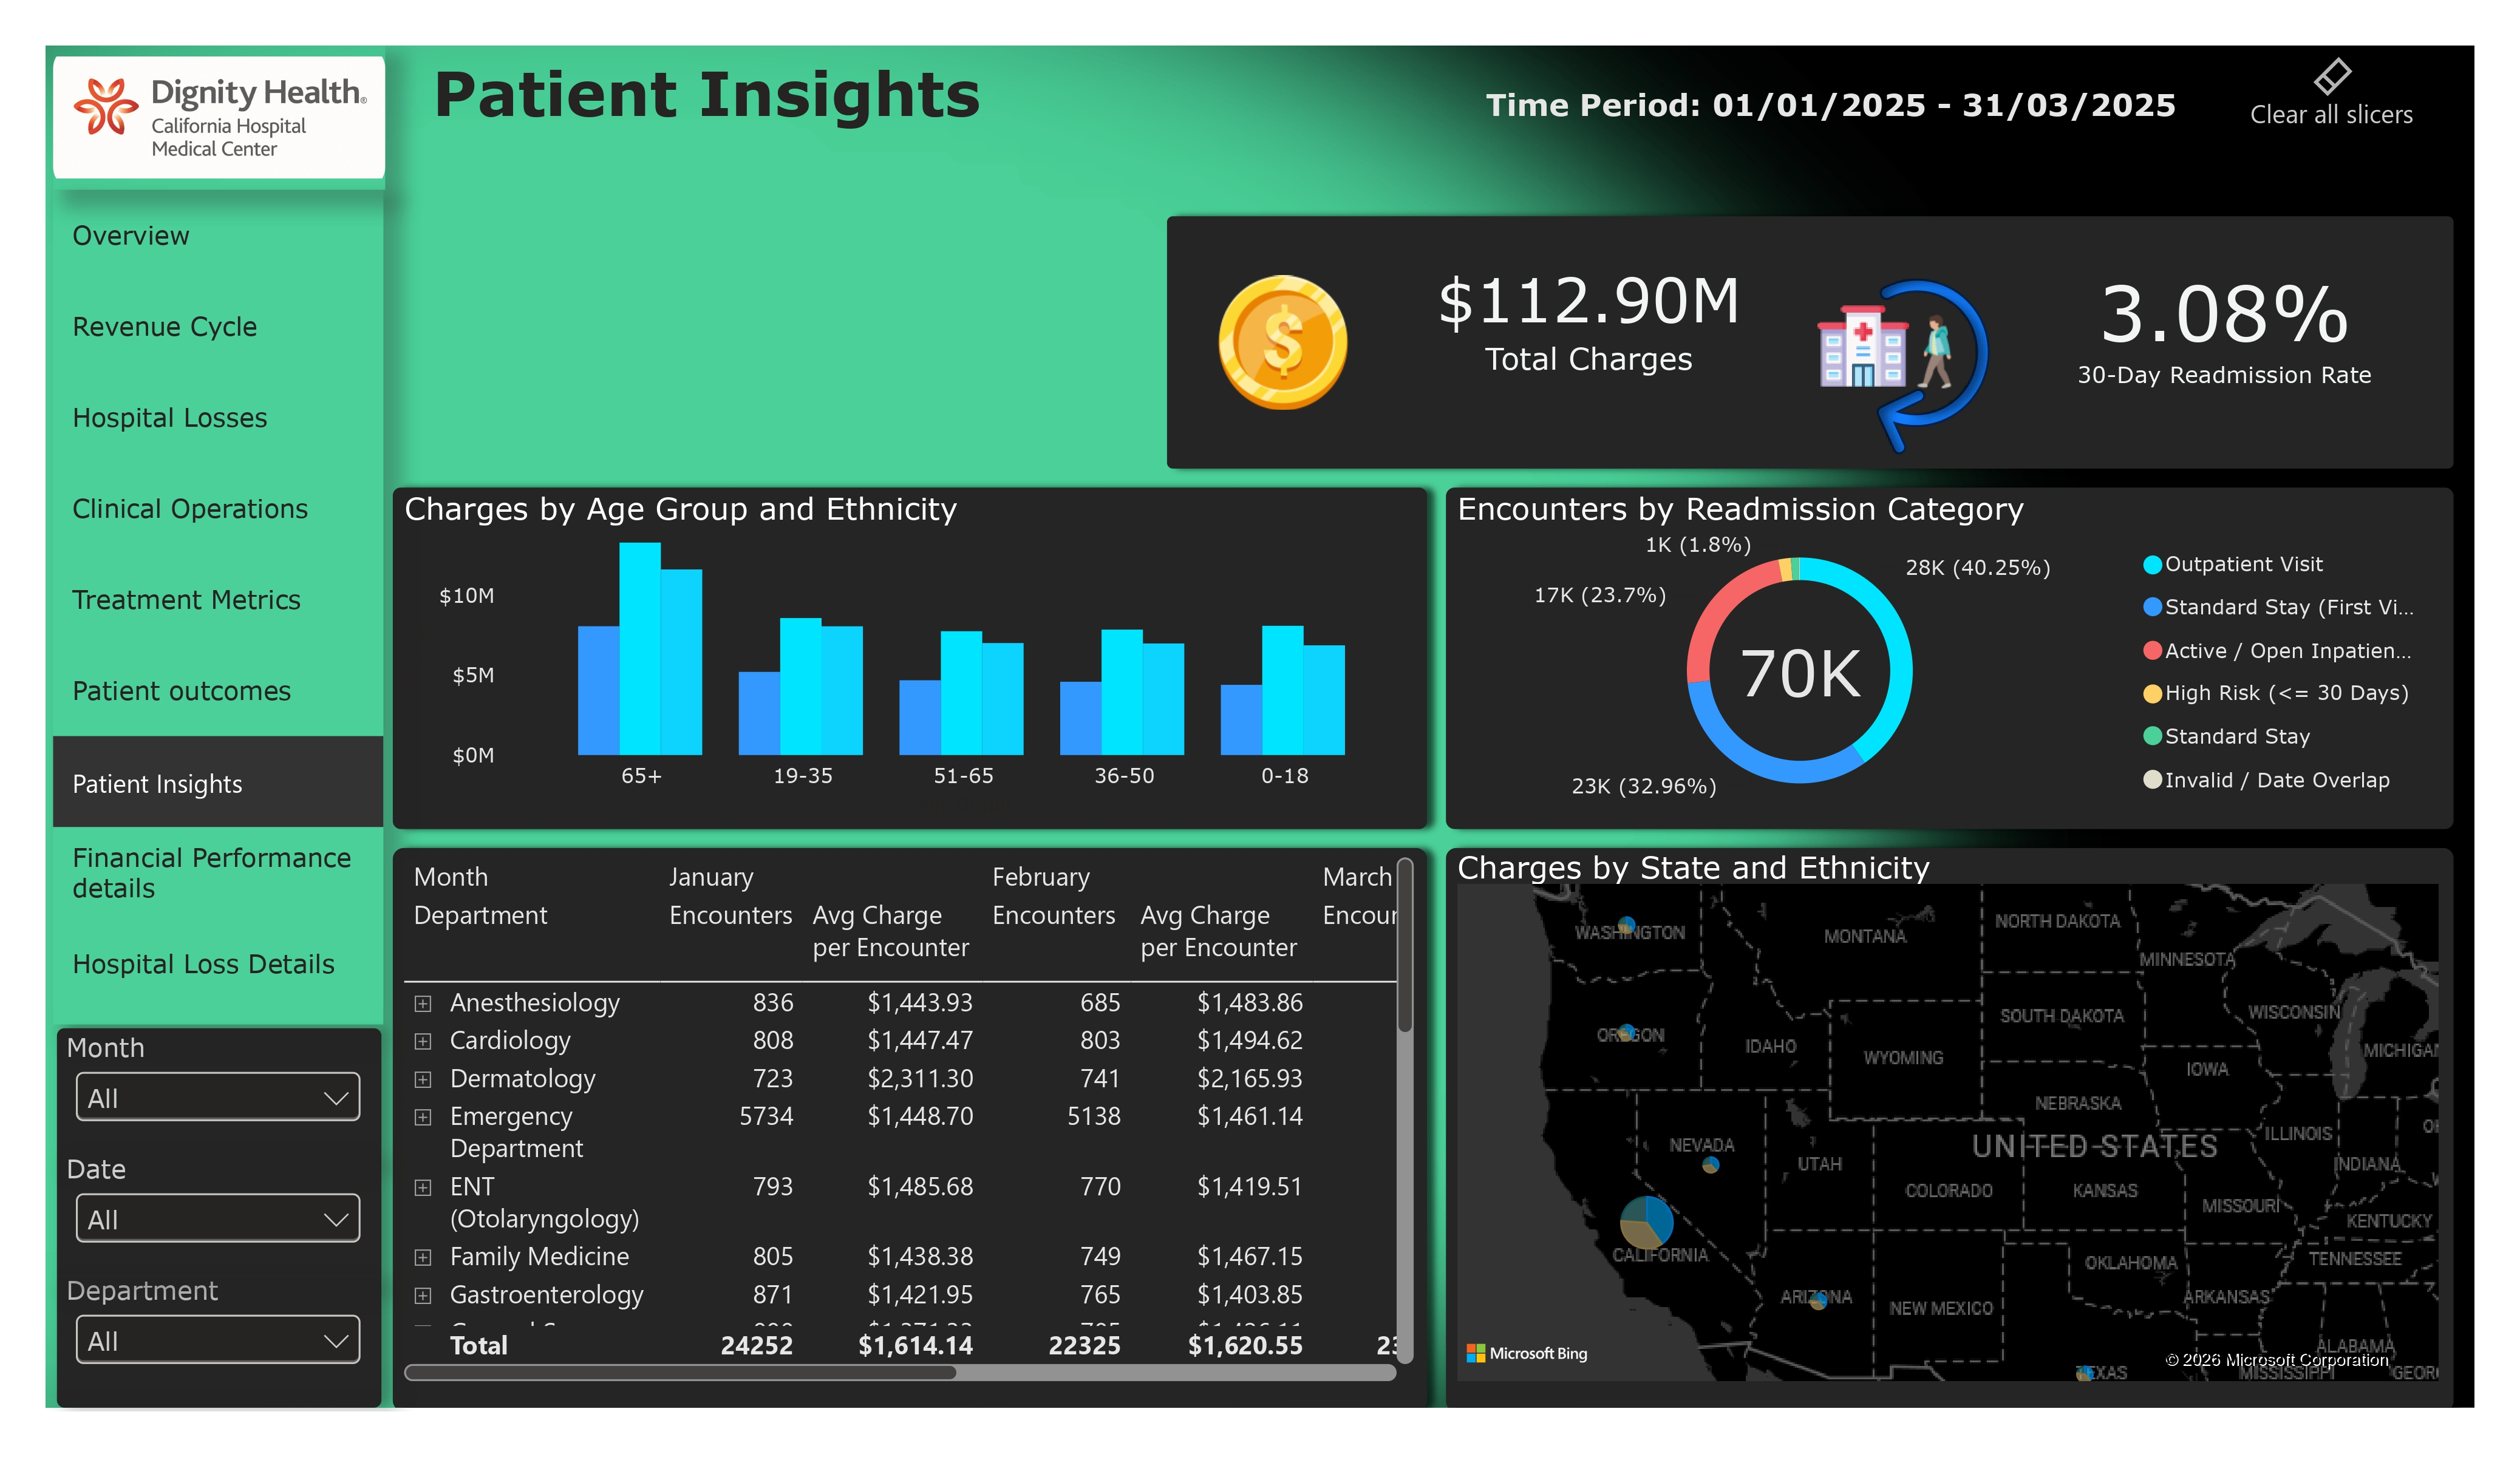

This screenshot's page, from the dashboard's own definition file:
{"tool":"powerbi","page":{"name":"Patient Insights","canvas":[1280,720],"ordinal":6},"visuals":[{"type":"pageNavigator","box":[3.8,76.2,174,440],"z":0},{"type":"cardVisual","fields":{"Data":["_Measures.30-Day Readmission Rate"]},"box":[1038.8,88.8,218.8,135],"z":1000},{"type":"slicer","title":"Department","fields":{"Values":["Encounters.department"]},"box":[6.3,647.8,170,61.2],"z":2000},{"type":"slicer","title":"Month","fields":{"Values":["Calendar.Month Name"]},"box":[6.3,520.3,170,64.1],"z":3000},{"type":"textbox","box":[198.8,0,931.2,53.8],"z":4000},{"type":"cardVisual","fields":{"Data":["_Measures.Total Charges"]},"box":[706.2,87.5,215,135],"z":5000},{"type":"slicer","title":"Date","fields":{"Values":["Encounters.admission_date"]},"box":[6.3,584.4,170,64.1],"z":6000},{"type":"actionButton","box":[1130,0,150,50],"z":7000},{"type":"image","box":[3.8,0,175,76.2],"z":8000},{"type":"clusteredColumnChart","fields":{"Category":["Patients.Age Group"],"Y":["_Measures.Total Charges"],"Series":["Patients.ethnicity"]},"box":[183.8,233.8,542.5,177.5],"z":9000},{"type":"donutChart","fields":{"Category":["Encounters.Readmission Category"],"Y":["_Measures.Total Encounters"]},"box":[738.8,233.8,527.5,177.5],"z":10000},{"type":"pivotTable","fields":{"Rows":["Encounters.department","Providers.Full Name"],"Values":["_Measures.Total Encounters","_Measures.Average Charge per Encounter"],"Columns":["Calendar.Month Name"]},"box":[183.8,422.5,542.5,286.2],"z":11000},{"type":"map","fields":{"Category":["Patients.state","Patients.zip_code"],"Size":["_Measures.Total Charges"],"Series":["Patients.ethnicity"]},"box":[738.8,422.5,527.5,286.2],"z":12000}]}

Visuals, with their boxes on the page's 1280x720 design canvas (x1, y1, x2, y2). These are canvas units, not pixel positions in the 2520x1457 screenshot, which may show the page scaled, cropped or inside an application window:
pageNavigator: locate(4, 76, 178, 516)
cardVisual - _Measures.30-Day Readmission Rate: locate(1039, 89, 1258, 224)
"Department" slicer: locate(6, 648, 176, 709)
"Month" slicer: locate(6, 520, 176, 584)
textbox: locate(199, 0, 1130, 54)
cardVisual - _Measures.Total Charges: locate(706, 88, 921, 222)
"Date" slicer: locate(6, 584, 176, 648)
actionButton: locate(1130, 0, 1280, 50)
image: locate(4, 0, 179, 76)
clusteredColumnChart - Patients.Age Group x _Measures.Total Charges: locate(184, 234, 726, 411)
donutChart - Encounters.Readmission Category x _Measures.Total Encounters: locate(739, 234, 1266, 411)
pivotTable - Encounters.department x Providers.Full Name: locate(184, 422, 726, 709)
map - Patients.state x Patients.zip_code: locate(739, 422, 1266, 709)
